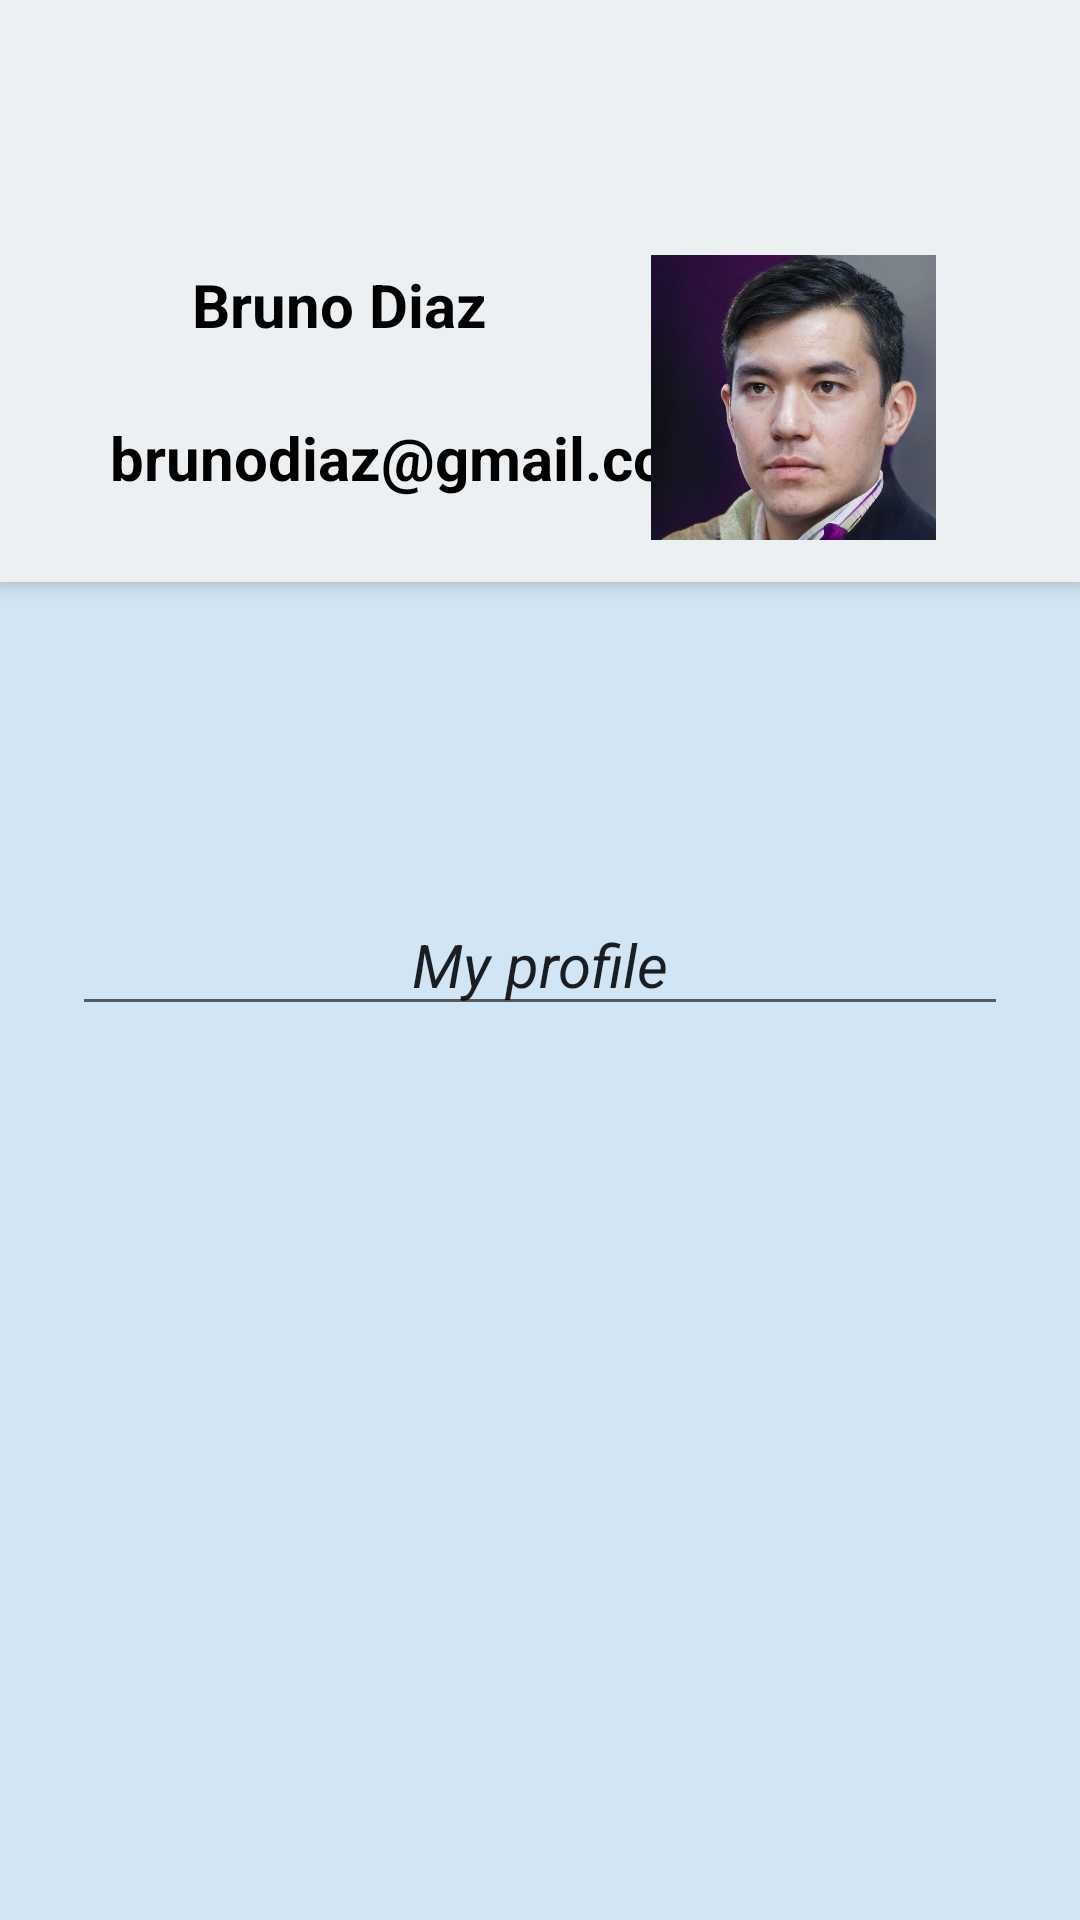

Icons on this 1080px×1920px Android screen, each with the point to tap as point (x, y):
perfil: point (793, 397)
